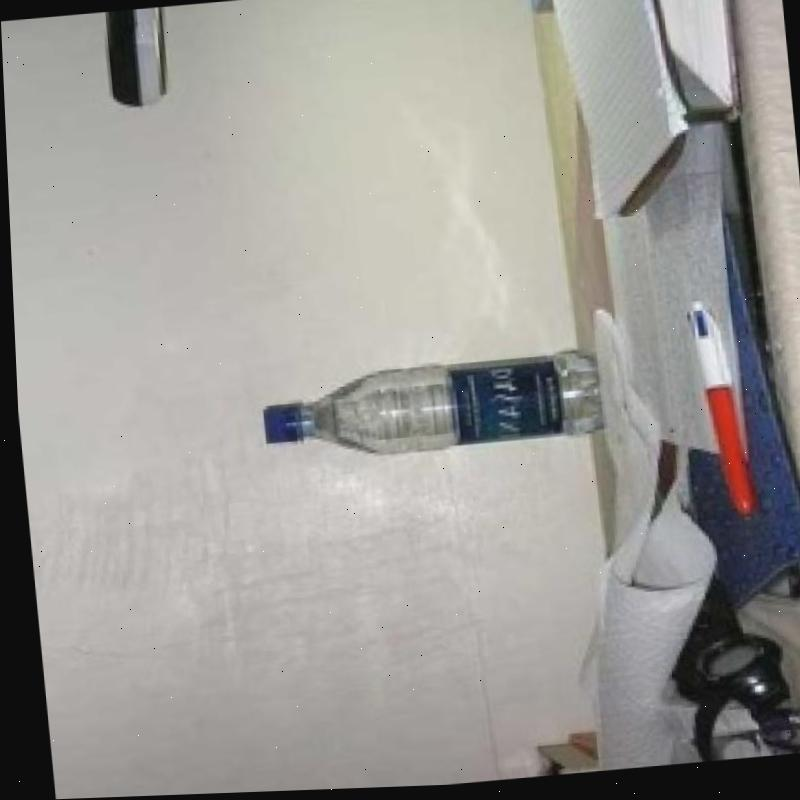botella: (252, 353, 601, 470)
